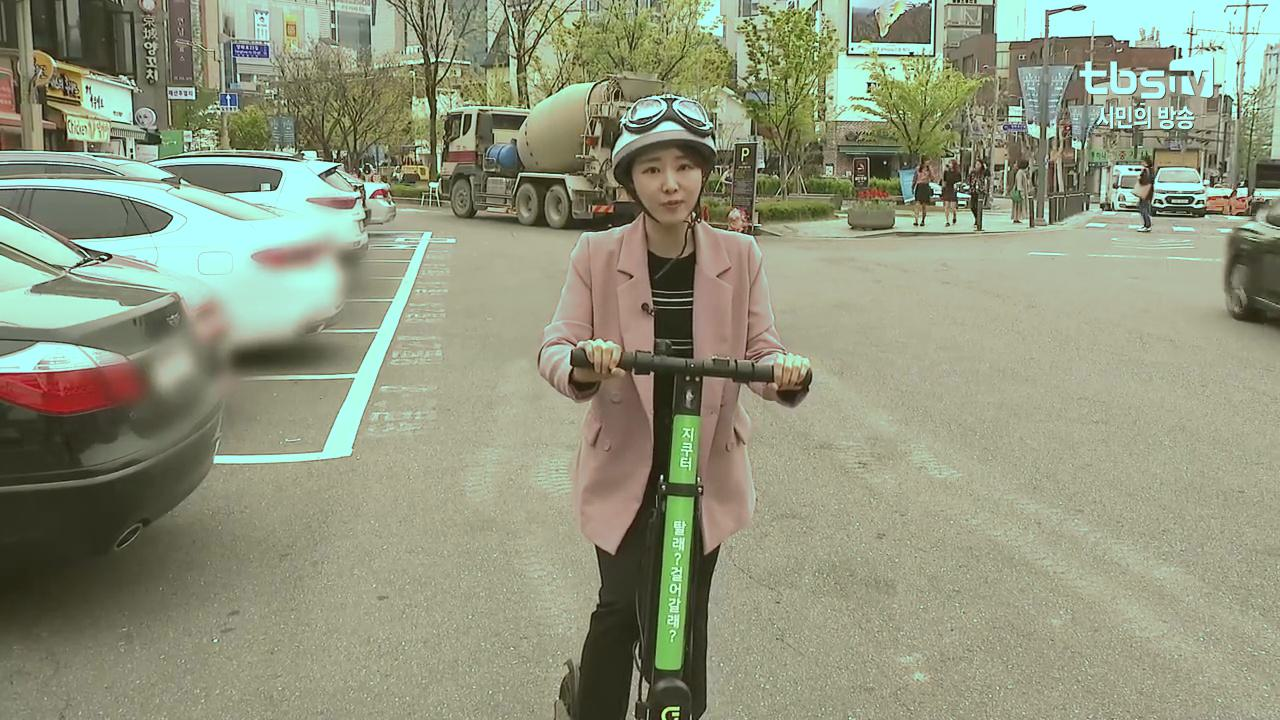helmet: (536, 92, 815, 720)
